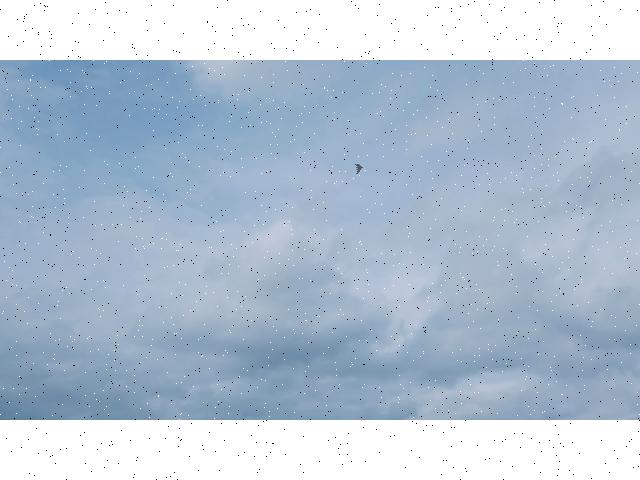Anti-Drone: (352, 160, 364, 176)
